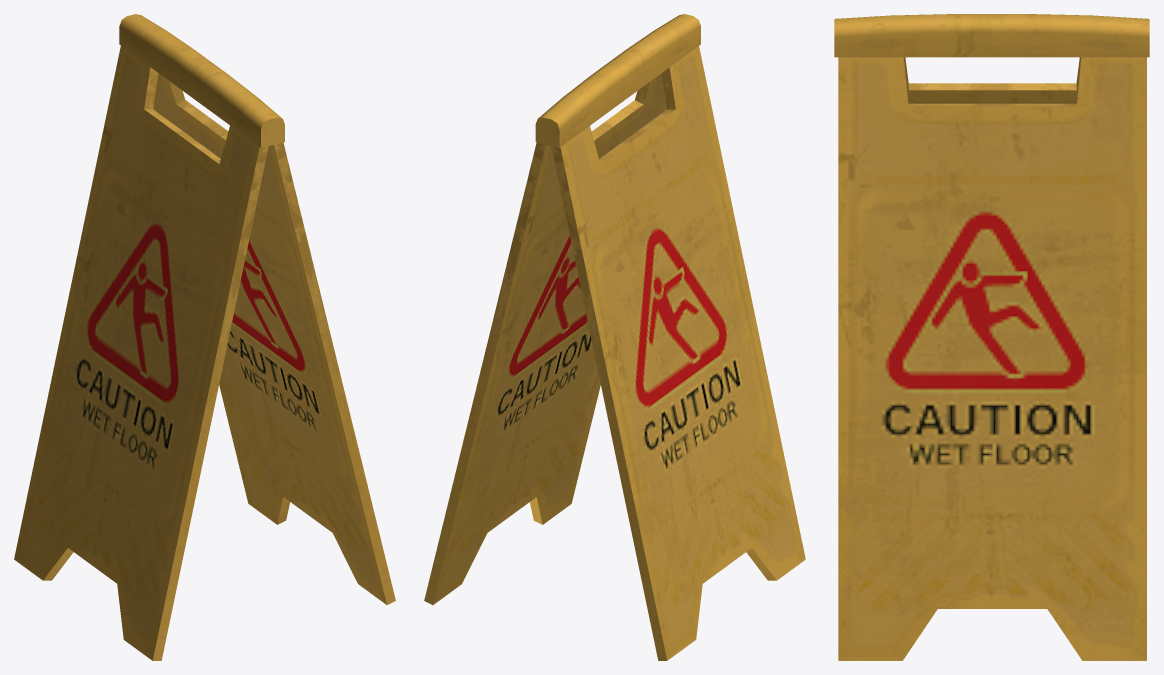
The model's file is HH_Wet_Floor.fbx.
3 views of the same model, side by side, from view 1: azimuth 30°, elevation 25°; view 2: azimuth 150°, elevation 25°; view 3: azimuth 270°, elevation 25° (orthographic). The views are drawn at different scales.
Parts seen in each view (by area): view 1: HH_Wet_Floor_LOD0; view 2: HH_Wet_Floor_LOD0; view 3: HH_Wet_Floor_LOD0.
Part boxes in pixels (box(x1,y1,x2,y2)): HH_Wet_Floor_LOD0: box(14, 14, 395, 660); HH_Wet_Floor_LOD0: box(424, 14, 805, 660); HH_Wet_Floor_LOD0: box(834, 14, 1149, 660).
Size of what is drawn, in the model's own units: 28.58 by 58.52 by 28.81.
